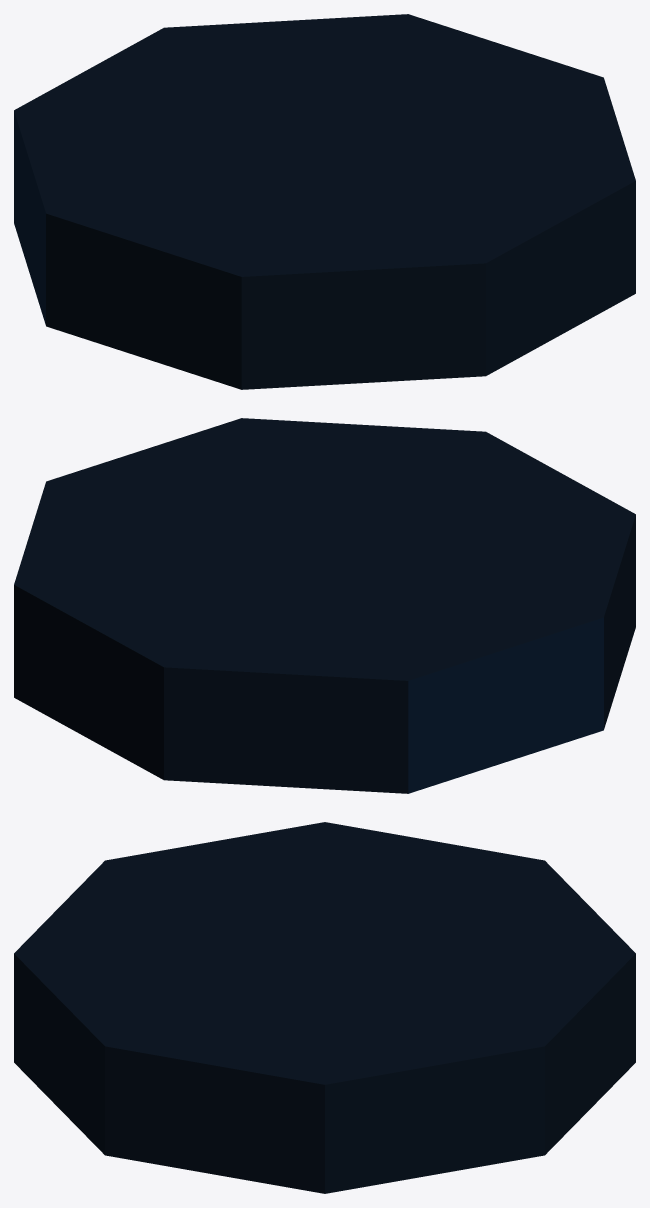
Rendered from LuzNivel2.fbx.
The picture shows the model from 3 angles, top to bottom: view 1: azimuth 30°, elevation 25°; view 2: azimuth 150°, elevation 25°; view 3: azimuth 270°, elevation 25°; orthographic projection. The views are drawn at different scales.
Parts seen in each view (by area): view 1: Cylinder; view 2: Cylinder; view 3: Cylinder.
Part boxes in pixels (<box>): Cylinder: <box>14,14,635,389</box>; Cylinder: <box>14,418,635,793</box>; Cylinder: <box>14,822,635,1193</box>.
Bounding box in the file's own units: 78.65 × 15.22 × 78.65.
1 material, 1 textured.
